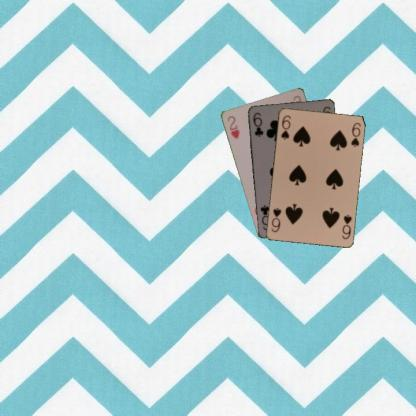2h: (225, 114, 240, 140)
6c: (250, 110, 265, 137)
6s: (339, 212, 353, 240), (278, 113, 292, 140)
